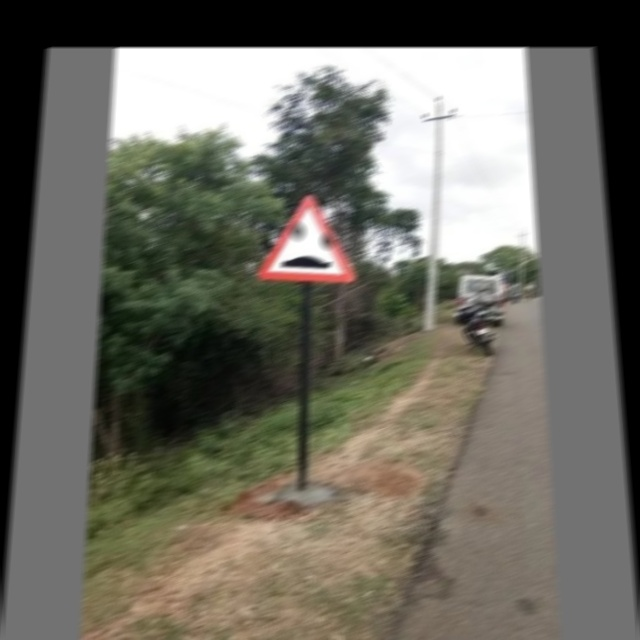Hump_or_Rough_Road: (251, 191, 358, 291)
